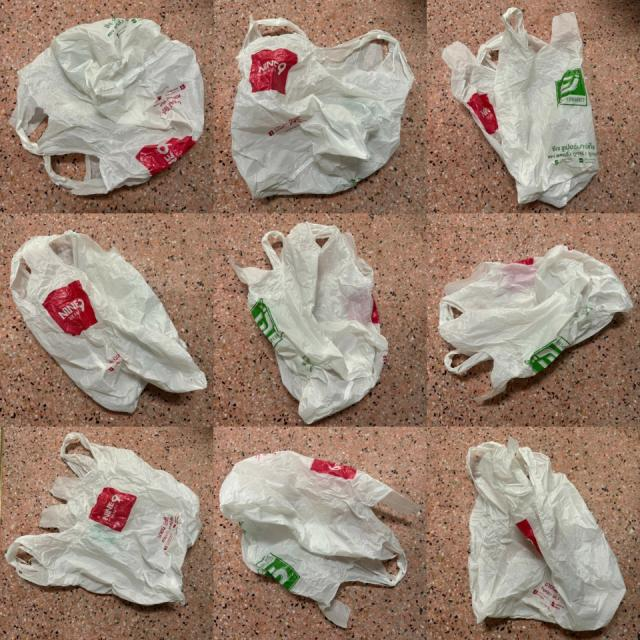Single-layer Plastic: (10, 231, 206, 412), (220, 451, 419, 628), (10, 18, 204, 195), (6, 432, 201, 604), (231, 18, 414, 198), (231, 222, 388, 424), (442, 8, 599, 208), (466, 439, 625, 631), (439, 245, 632, 401)
